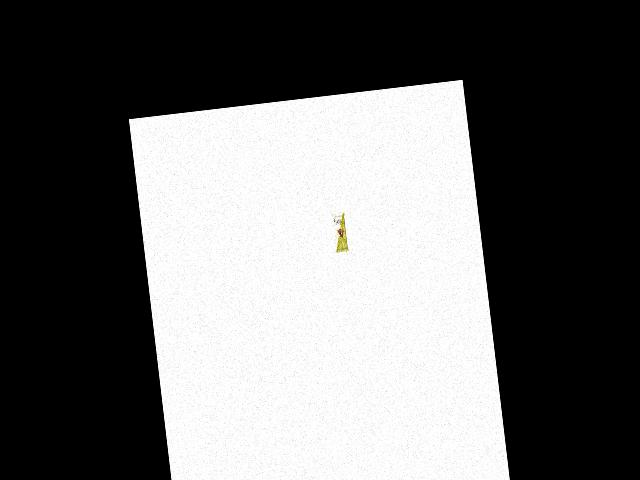chocolate: (328, 209, 352, 255)
